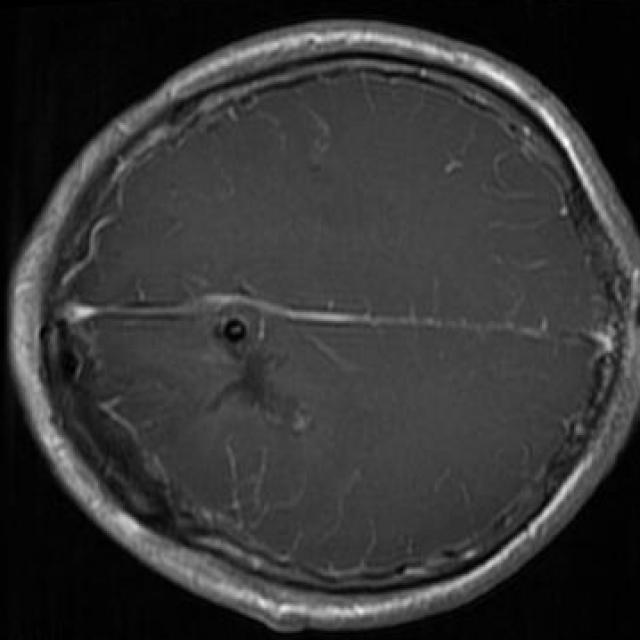glioma: (214, 341, 307, 430)
